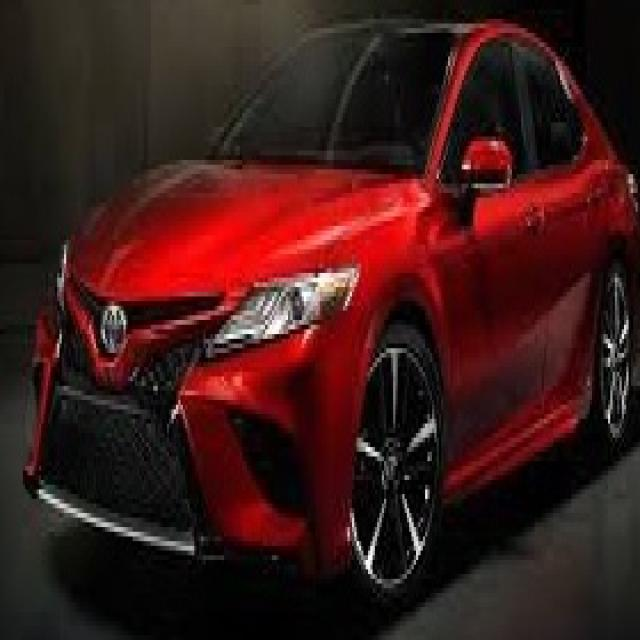red: (24, 26, 640, 572)
